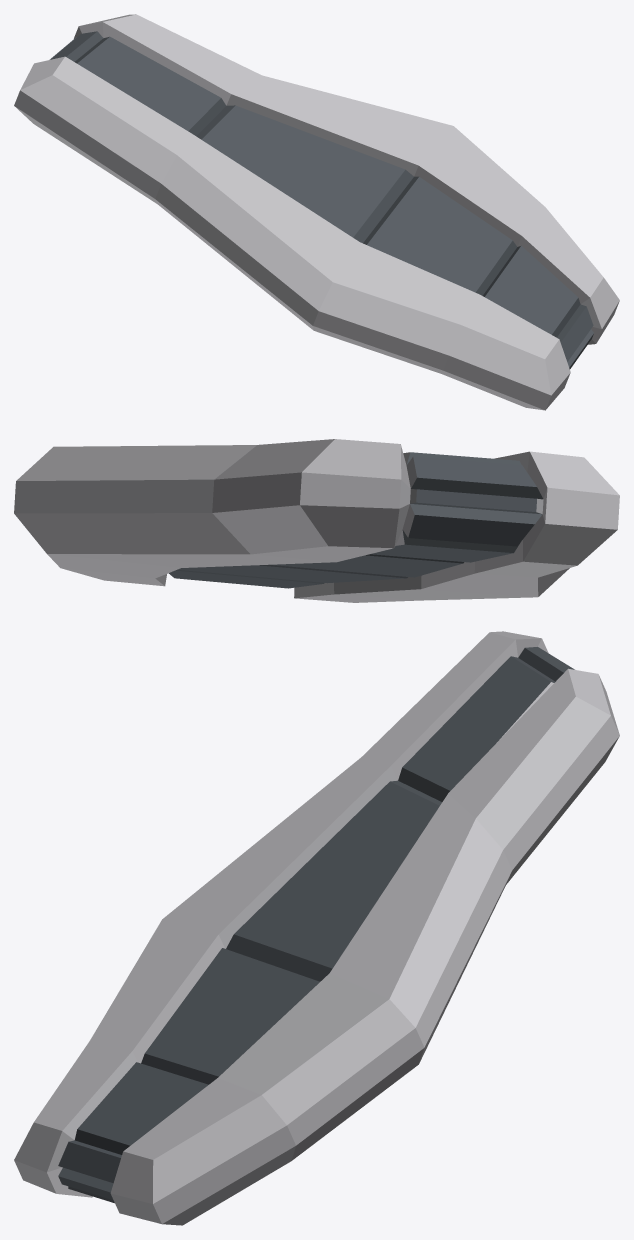
Rendered from Fighter_03_Right_Fin.fbx.
3 renders of one model, top to bottom at view 1: azimuth 30°, elevation 25°; view 2: azimuth 150°, elevation 25°; view 3: azimuth 270°, elevation 25°, orthographic. The views are drawn at different scales.
Parts seen in each view (by area): view 1: Fighter_03_Right_Fin; view 2: Fighter_03_Right_Fin; view 3: Fighter_03_Right_Fin.
Part boxes in pixels (x1,y1,x2,y2): Fighter_03_Right_Fin: [14, 14, 619, 410]; Fighter_03_Right_Fin: [14, 439, 619, 602]; Fighter_03_Right_Fin: [14, 631, 619, 1225].
Bounding box in the file's own units: 393 × 239 × 347.
Materials: 1 (1 with a texture image).
